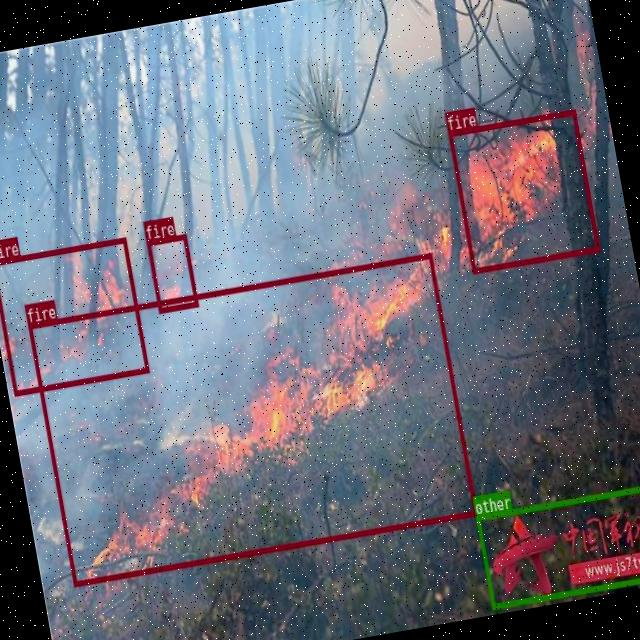fire: (28, 252, 476, 586), (447, 108, 598, 273), (0, 236, 148, 395), (146, 233, 198, 312)
